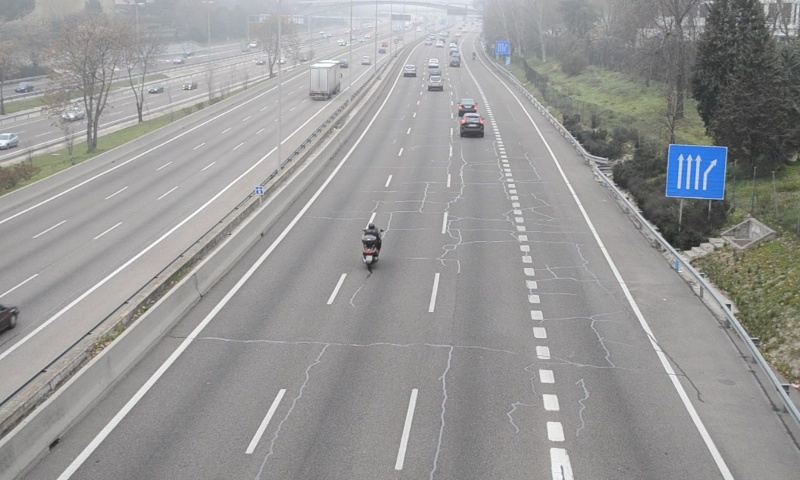car: (460, 113, 484, 136), (457, 97, 477, 114)
motorcycle: (360, 222, 384, 272)
